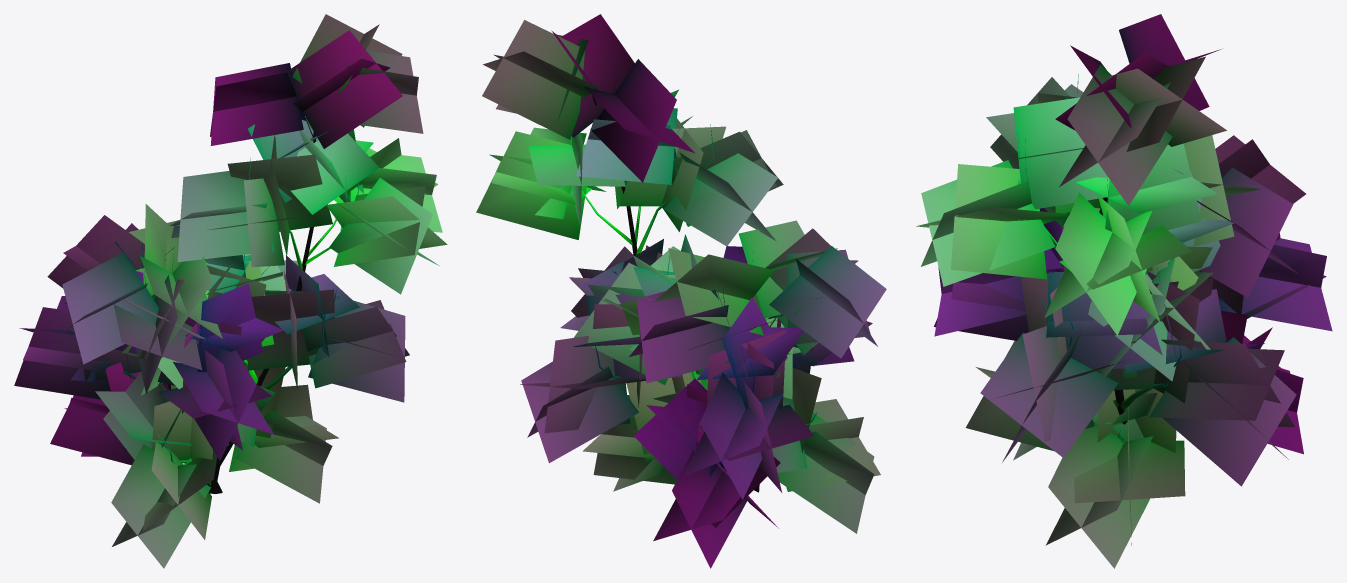
File: M_P1_Tree_14.fbx
The picture shows the model from 3 angles, left to right: view 1: azimuth 30°, elevation 25°; view 2: azimuth 150°, elevation 25°; view 3: azimuth 270°, elevation 25°; orthographic projection. The views are drawn at different scales.
Visible parts, largest first — view 1: M_Tree_1_14; view 2: M_Tree_1_14; view 3: M_Tree_1_14.
Boxes of the visible parts, x1,y1,x2,y2 form: M_Tree_1_14: (14,14,447,568); M_Tree_1_14: (476,14,886,568); M_Tree_1_14: (916,14,1332,568).
Size of the model in its own units: 1287 by 1513 by 1032.
